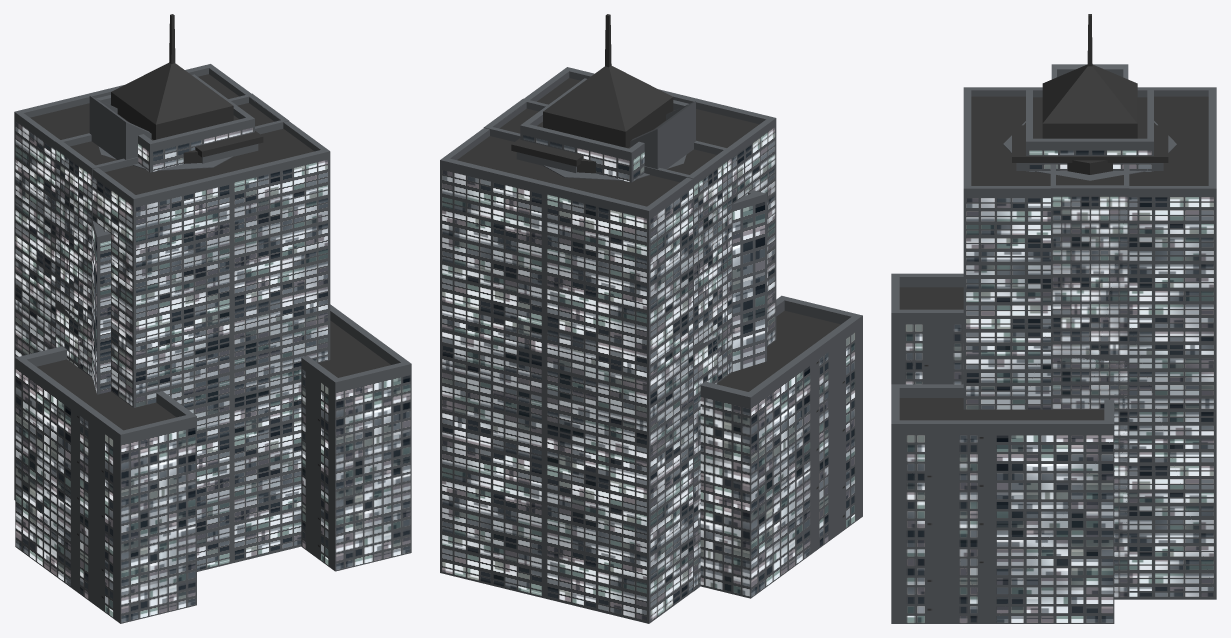
Rendered from city.glb.
3 views of the same model, side by side, from view 1: azimuth 30°, elevation 25°; view 2: azimuth 150°, elevation 25°; view 3: azimuth 270°, elevation 25° (orthographic). The views are drawn at different scales.
Visible parts, largest first — view 1: SM_Env_Background_Building_Large_01, SM_Env_Background_Building_01, SM_Env_Background_Building_05, SM_Env_Background_Building_Skinny_01, SM_Env_Background_Building_03, SM_Env_Background_Building_02, SM_Env_Background_Building_04, SM_Env_Background_Building_Skinny_04, SM_Env_Background_Building_Round_01; view 2: SM_Env_Background_Building_Large_01, SM_Env_Background_Building_01, SM_Env_Background_Building_05, SM_Env_Background_Building_Skinny_01, SM_Env_Background_Building_03, SM_Env_Background_Building_Skinny_04, SM_Env_Background_Building_02, SM_Env_Background_Building_04, SM_Env_Background_Building_Round_01; view 3: SM_Env_Background_Building_Large_01, SM_Env_Background_Building_01, SM_Env_Background_Building_Skinny_01, SM_Env_Background_Building_05, SM_Env_Background_Building_04, SM_Env_Background_Building_Round_01, SM_Env_Background_Building_02.
Part boxes in pixels (x1,y1,x2,y2): SM_Env_Background_Building_Large_01: (14, 64, 330, 571); SM_Env_Background_Building_01: (15, 304, 411, 623); SM_Env_Background_Building_05: (96, 14, 254, 172); SM_Env_Background_Building_Skinny_01: (55, 93, 288, 377); SM_Env_Background_Building_03: (92, 220, 110, 394); SM_Env_Background_Building_02: (89, 96, 151, 159); SM_Env_Background_Building_04: (195, 131, 263, 163); SM_Env_Background_Building_Skinny_04: (55, 301, 83, 368); SM_Env_Background_Building_Round_01: (98, 146, 233, 170); SM_Env_Background_Building_Large_01: (440, 67, 776, 623); SM_Env_Background_Building_01: (700, 295, 862, 598); SM_Env_Background_Building_05: (520, 14, 688, 182); SM_Env_Background_Building_Skinny_01: (483, 98, 732, 382); SM_Env_Background_Building_03: (732, 190, 766, 371); SM_Env_Background_Building_Skinny_04: (693, 319, 732, 591); SM_Env_Background_Building_02: (630, 101, 695, 169); SM_Env_Background_Building_04: (511, 138, 583, 172); SM_Env_Background_Building_Round_01: (543, 155, 686, 180); SM_Env_Background_Building_Large_01: (963, 87, 1216, 599); SM_Env_Background_Building_01: (891, 273, 1114, 623); SM_Env_Background_Building_Skinny_01: (1050, 164, 1129, 599); SM_Env_Background_Building_05: (1026, 14, 1153, 171); SM_Env_Background_Building_04: (1012, 125, 1168, 170); SM_Env_Background_Building_Round_01: (1003, 121, 1176, 180); SM_Env_Background_Building_02: (1051, 64, 1128, 79).
Size of the model in its own units: 56.35 by 98.15 by 51.51.
2 materials, 2 textured.
